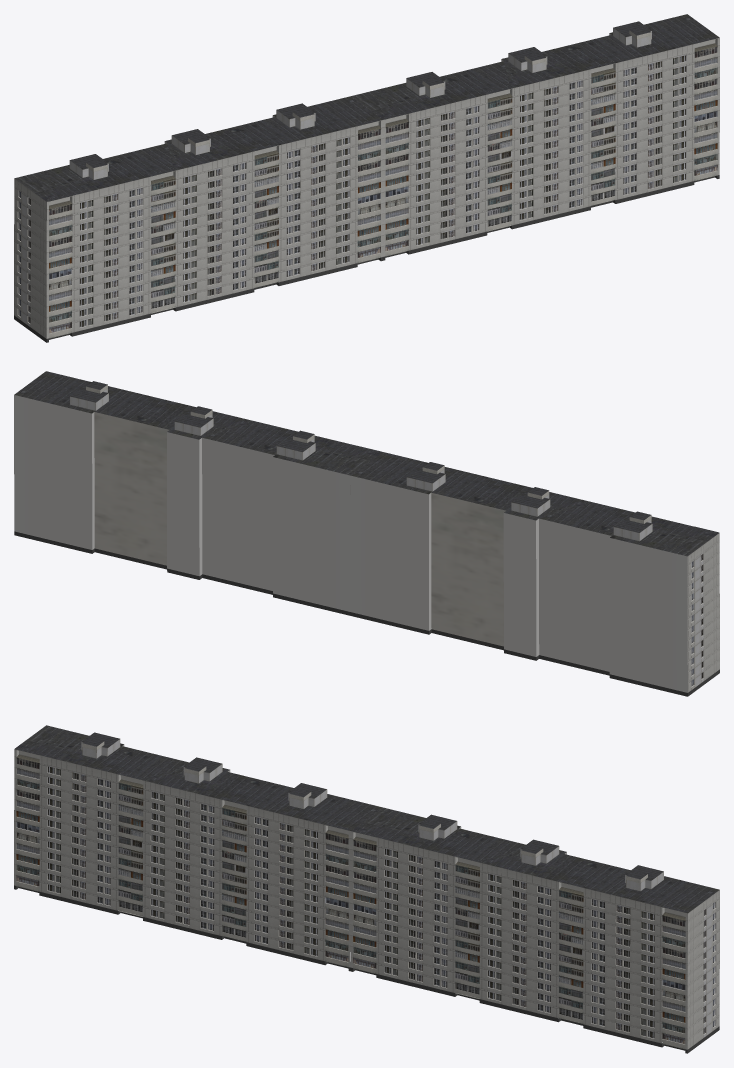
3 renders of one model, top to bottom at view 1: azimuth 30°, elevation 25°; view 2: azimuth 150°, elevation 25°; view 3: azimuth 330°, elevation 25°, orthographic.
Parts seen in each view (by area): view 1: II_68_03LOD012; view 2: II_68_03LOD012; view 3: II_68_03LOD012.
Part boxes in pixels (box(x1,y1,x2,y2)): II_68_03LOD012: box(14, 14, 719, 342); II_68_03LOD012: box(14, 371, 719, 696); II_68_03LOD012: box(14, 725, 719, 1053).
Bounding box in the file's own units: 272 × 59.39 × 23.9.
Materials: 1 (1 with a texture image).
